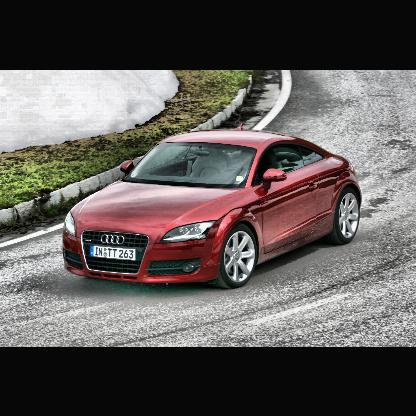Audi TT Hatchback 2011: (62, 122, 367, 295)
